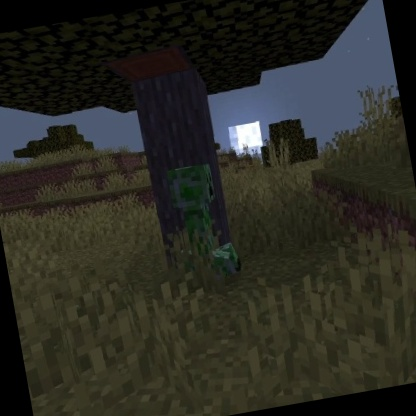creeper: (159, 157, 246, 287)
